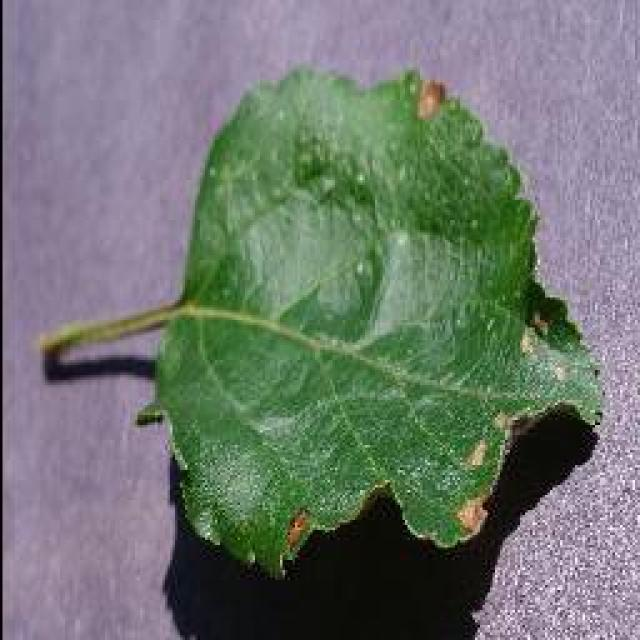black_rot: (457, 409, 501, 538), (506, 288, 567, 374), (257, 494, 323, 569), (402, 71, 457, 137)
